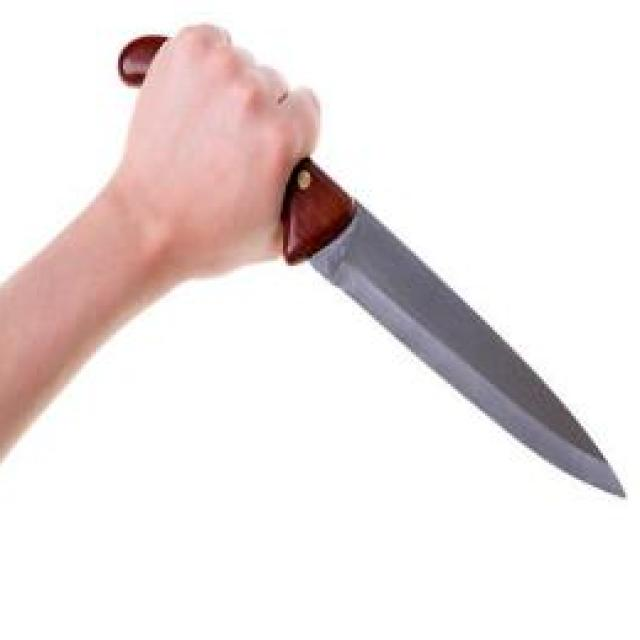knife: (115, 12, 630, 501)
